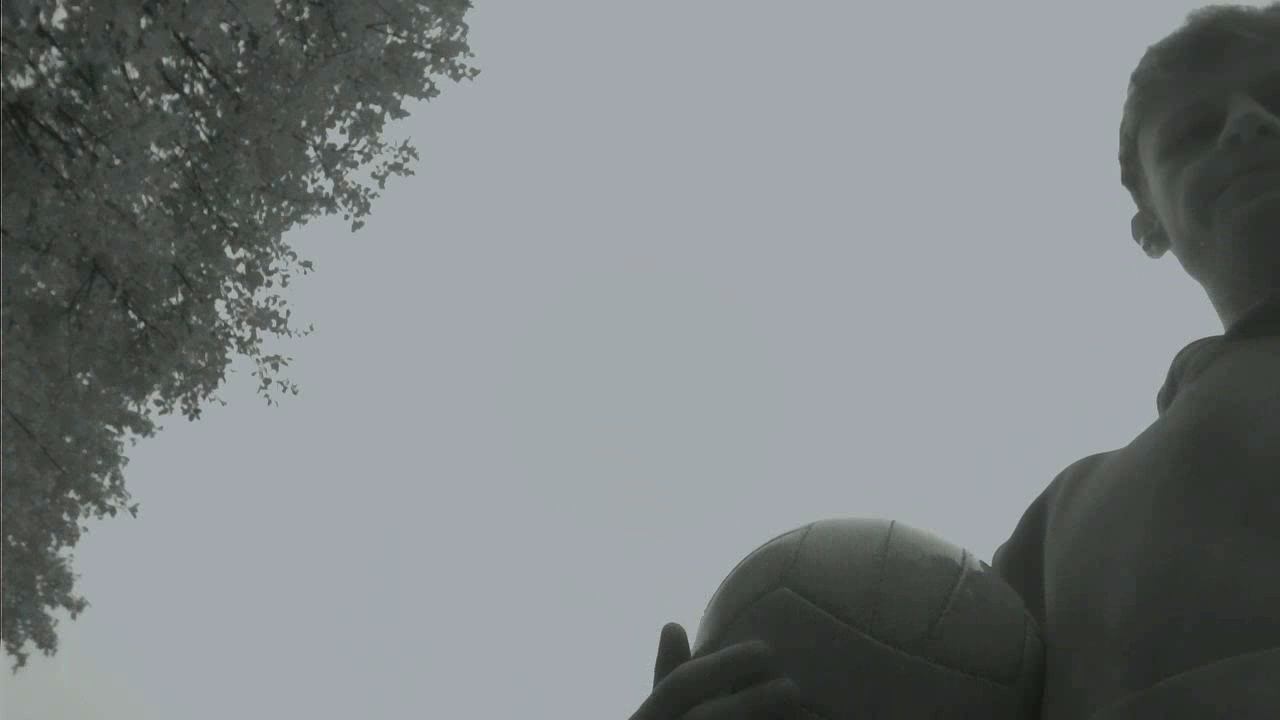Football-Spotter: (694, 518, 1043, 719)
